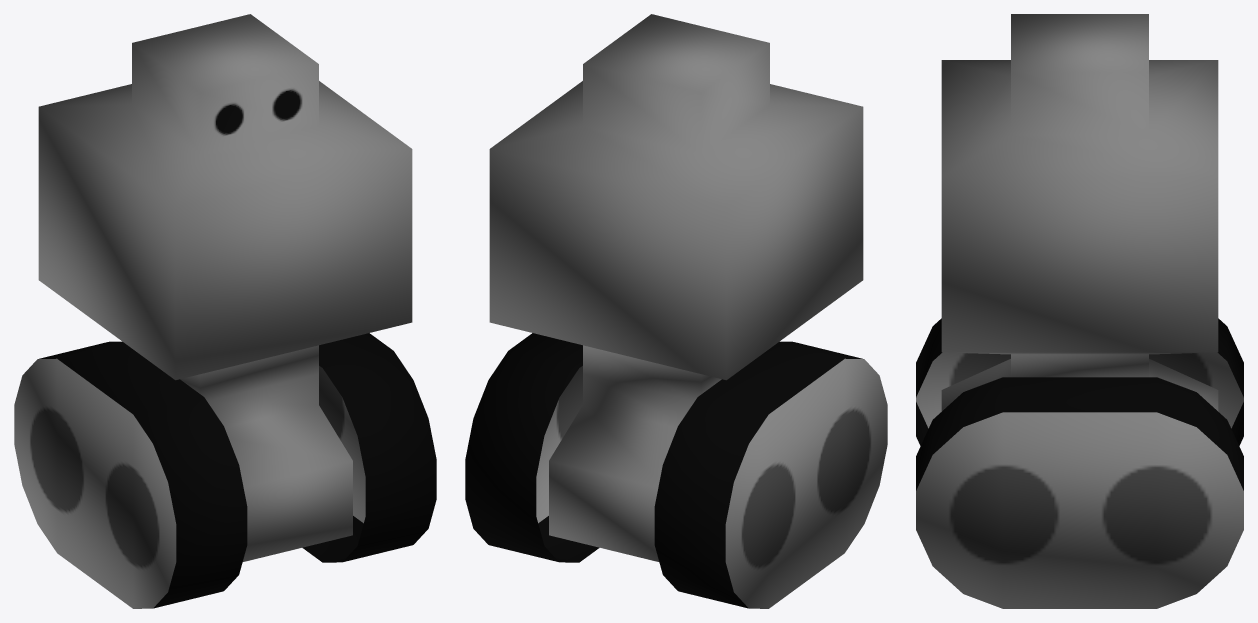
The model's file is robot.fbx.
The picture shows the model from 3 angles, left to right: view 1: azimuth 30°, elevation 25°; view 2: azimuth 150°, elevation 25°; view 3: azimuth 270°, elevation 25°; orthographic projection.
Visible parts, largest first — view 1: Robot; view 2: Robot; view 3: Robot.
Part boxes in pixels (bbox=[...]): Robot: bbox=[14, 14, 436, 608]; Robot: bbox=[465, 14, 887, 608]; Robot: bbox=[916, 14, 1243, 608].
Size of the model in its own units: 1.1 by 2 by 1.18.
